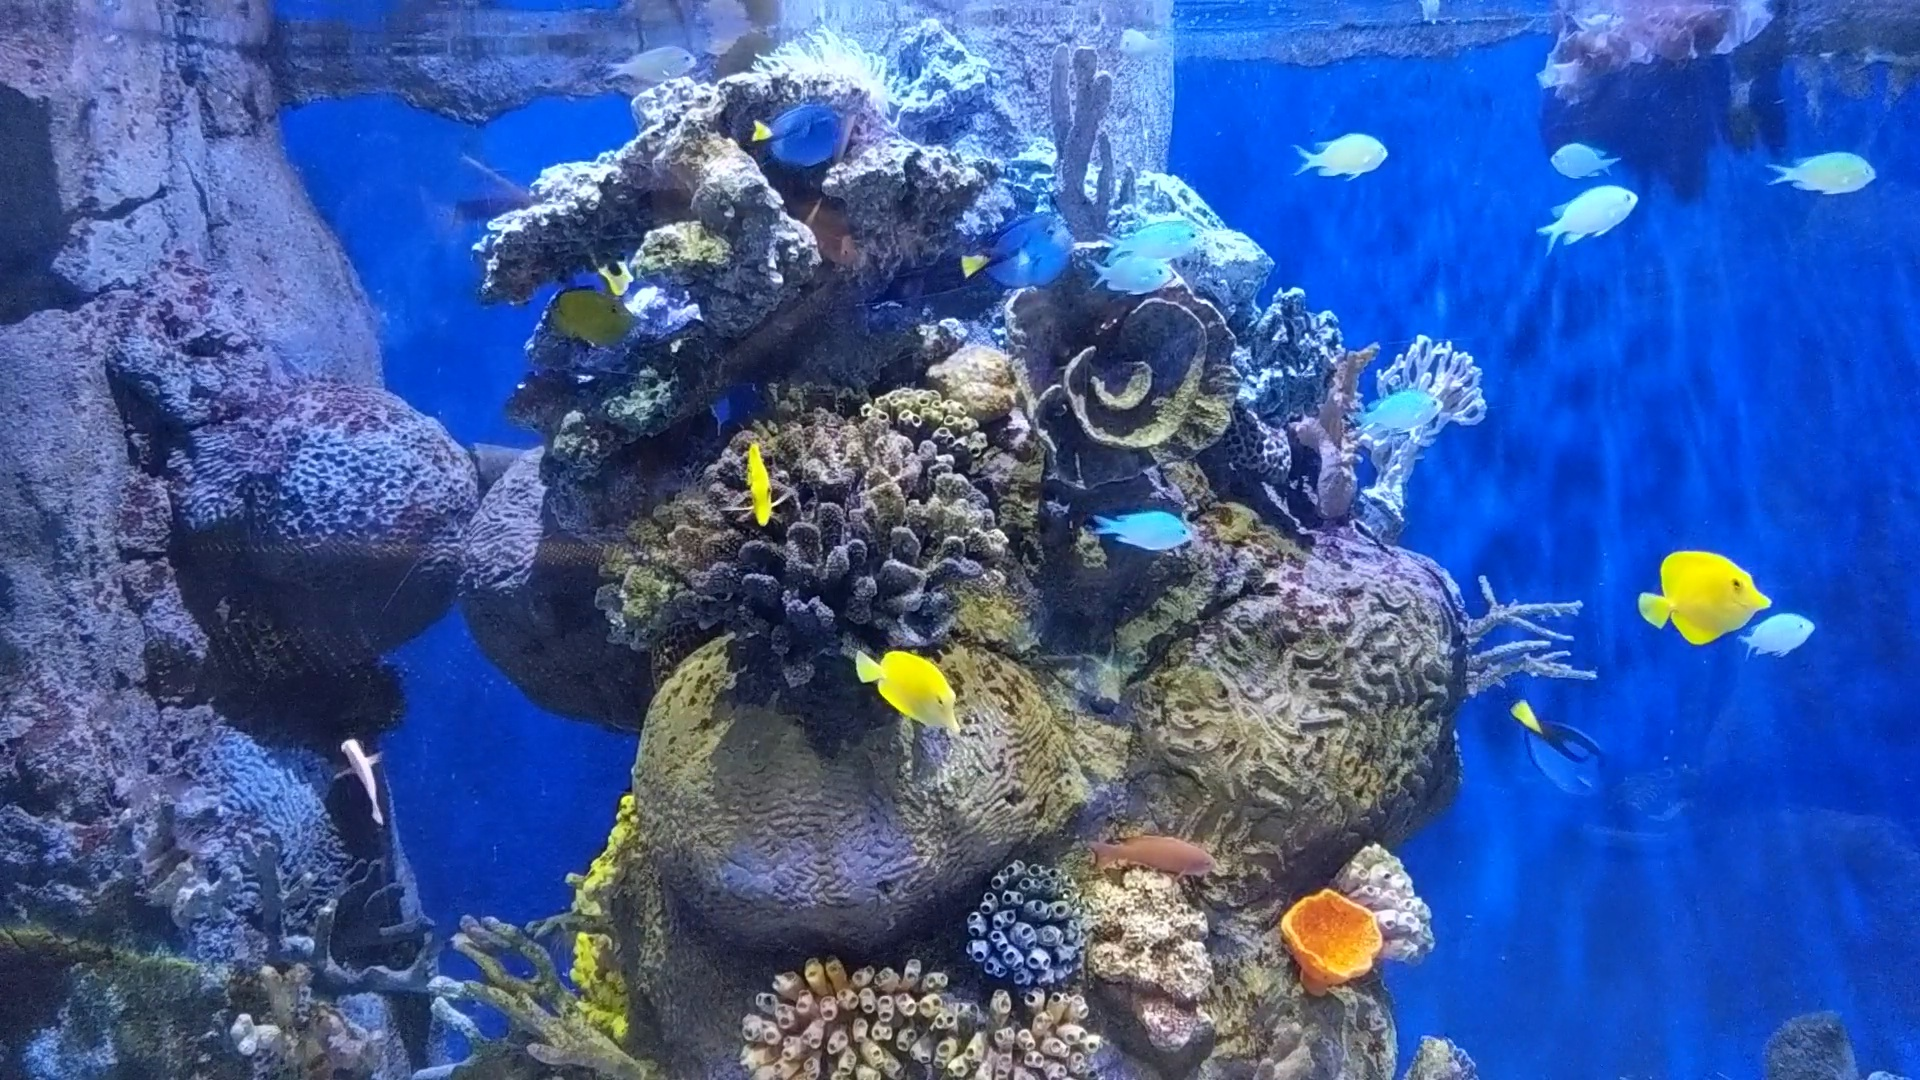blue tang surgeonfish: (1509, 698, 1621, 806), (955, 214, 1083, 293), (744, 103, 845, 171)
damselfish: (1538, 185, 1636, 258), (1290, 131, 1393, 179), (1093, 506, 1196, 555), (1098, 218, 1211, 261), (1767, 153, 1879, 196), (1353, 386, 1444, 438), (1735, 611, 1822, 659), (601, 45, 702, 84), (1079, 256, 1179, 295), (1114, 25, 1178, 71), (1545, 142, 1623, 179)
saddle butterfly fish: (1636, 551, 1774, 649), (851, 634, 965, 737), (538, 284, 650, 349), (742, 447, 778, 534)
